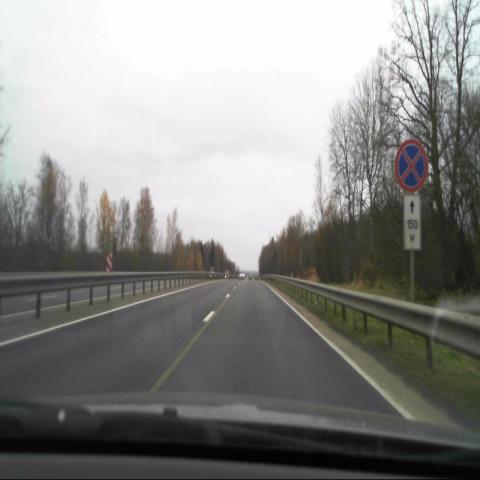3_27: (395, 140, 428, 194)
8_2_2: (401, 194, 423, 252)
